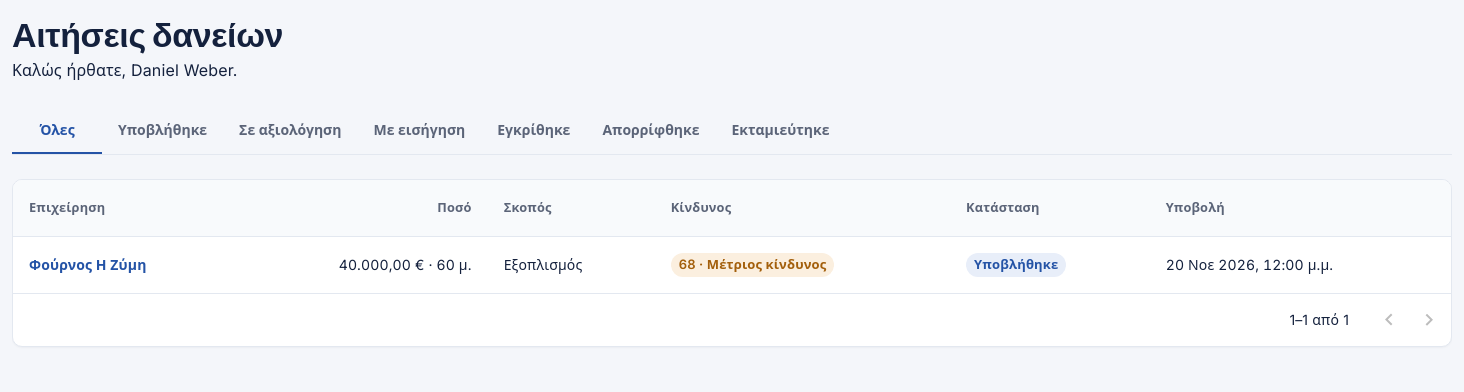
Test case: LoanQueuePage › lists applications with their risk and status, and filters by status
expect the text "68 · Μέτριος κίνδυνος" is shown: met, box [671,255,834,275]
expect the text "Υποβλήθηκε" is shown: met, box [974,256,1058,272]
Click the tab "Απορρίφθηκε".
click(651, 130)  # box [586,106,716,154]
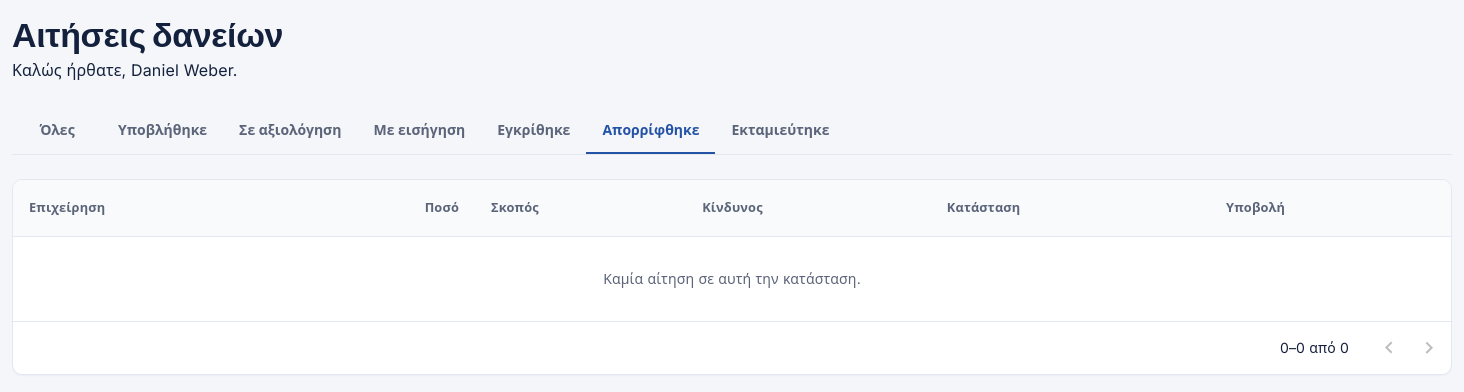
expect the text "Καμία αίτηση σε αυτή την κατάσταση." is shown: met, box [13,236,1451,322]
